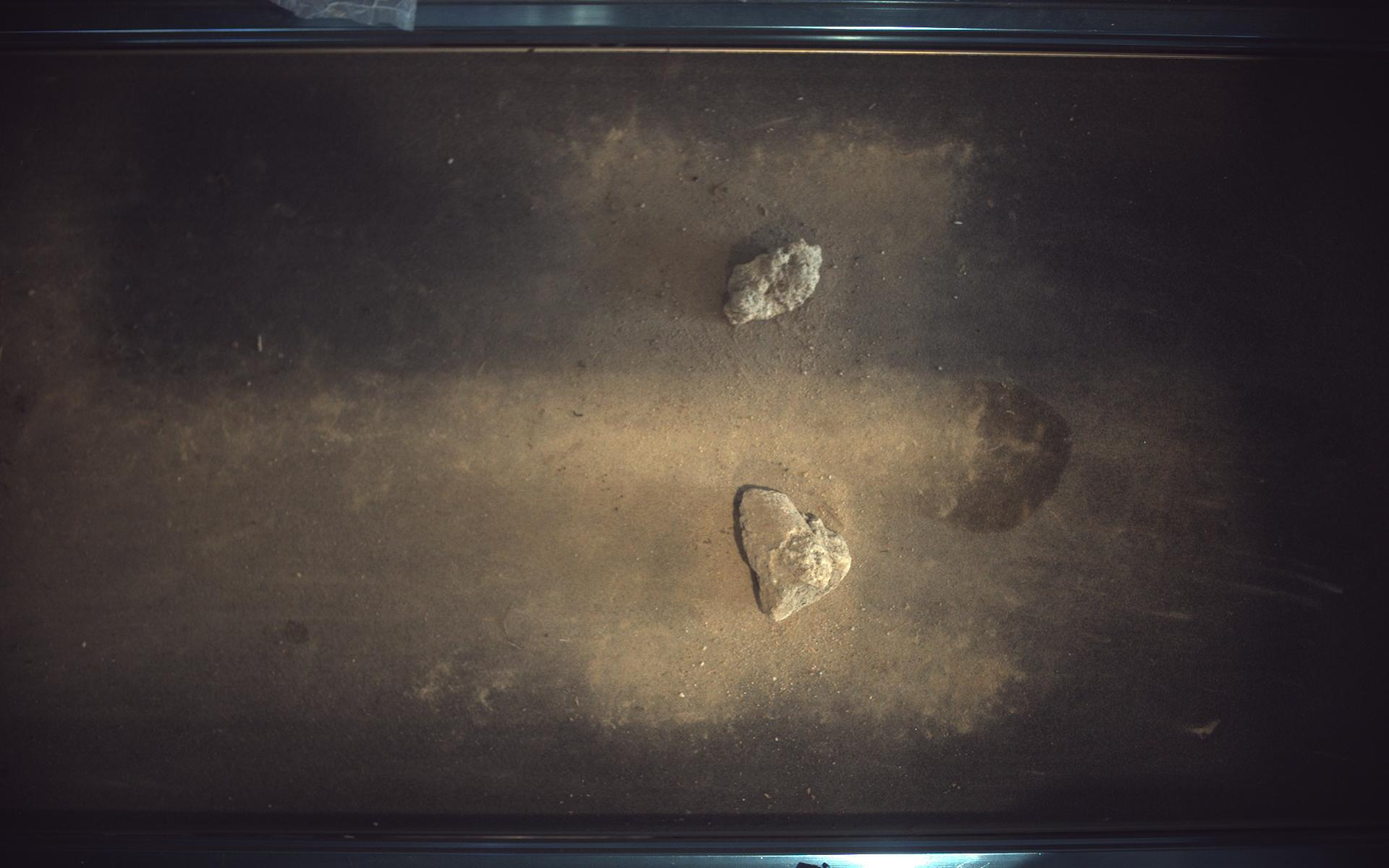stone: (740, 488, 852, 622), (725, 239, 823, 324)
